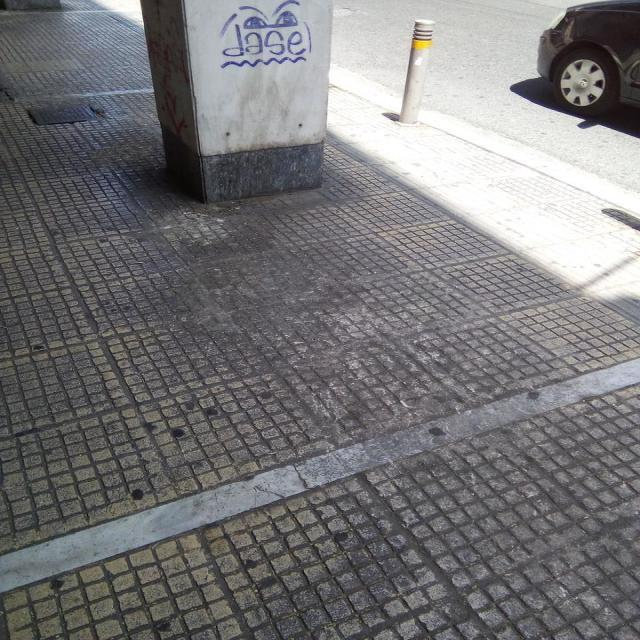nonspitting: (215, 0, 316, 70)
